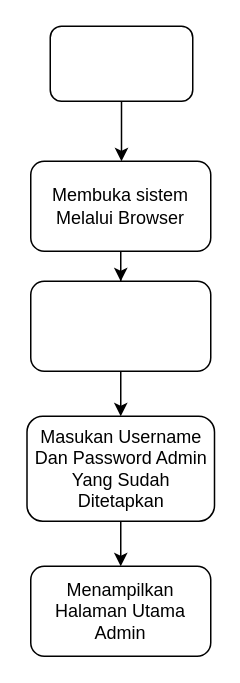
This 240x683 diagram has some shape labels left out. Here are the shapes that lost their labels. From the top down, the centre of each, then its label:
[121,63]: Admin
[120,325]: Melakukan Proses Login
